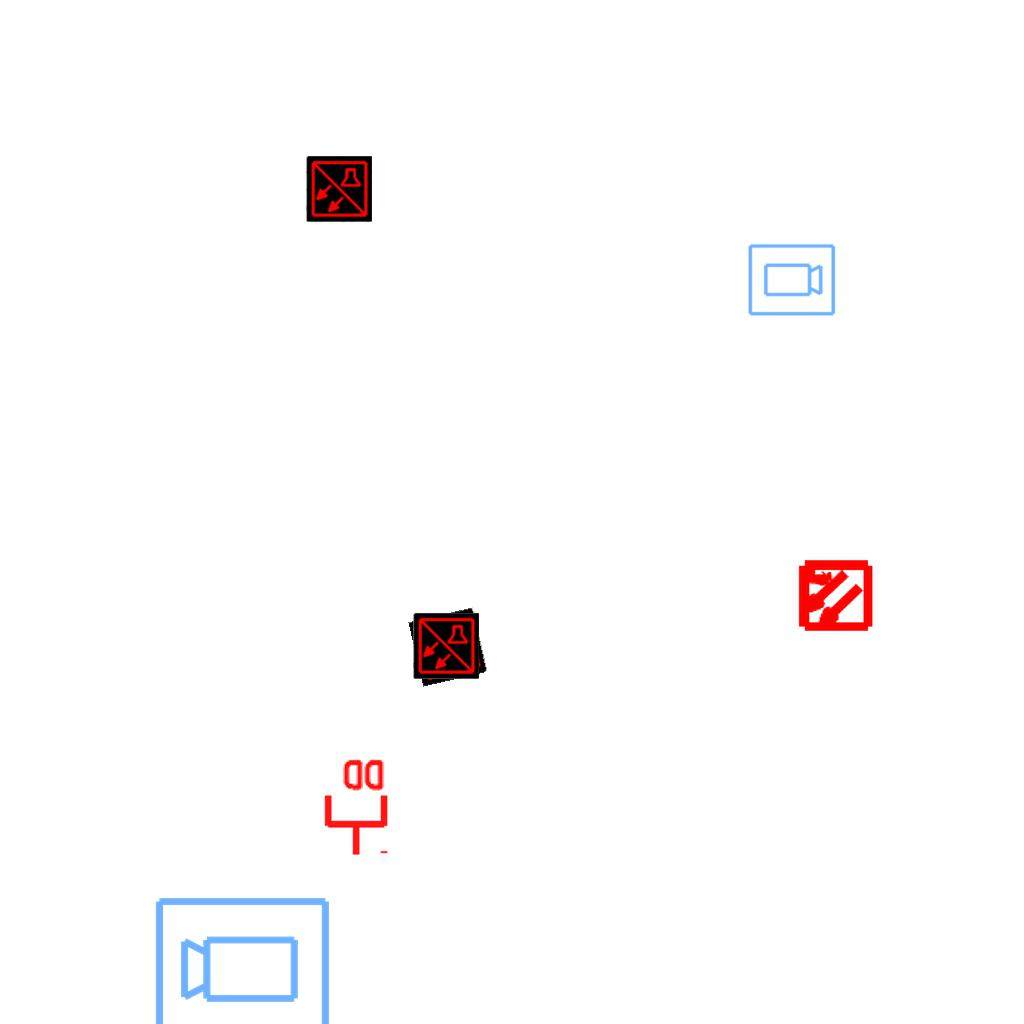Datenanschluss_zweifach: (320, 755, 389, 858)
KFO_Kamera_mit_Festobjektiv: (152, 891, 334, 1024), (746, 242, 837, 319)
OKW_Multisensormelder_(Kombination_optischer_Rauch-Kahlenmonoxid_Waerme-Melder): (408, 607, 488, 687), (306, 156, 372, 222), (413, 613, 479, 679)
OT_Multisensormelder_(Kombination_RMO_WMD): (777, 539, 890, 652)
